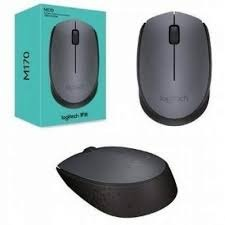mouse: (53, 141, 181, 222), (131, 8, 216, 129), (47, 18, 101, 109)
